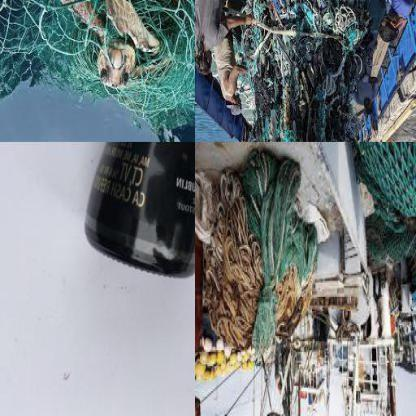Glass: (79, 134, 193, 275)
